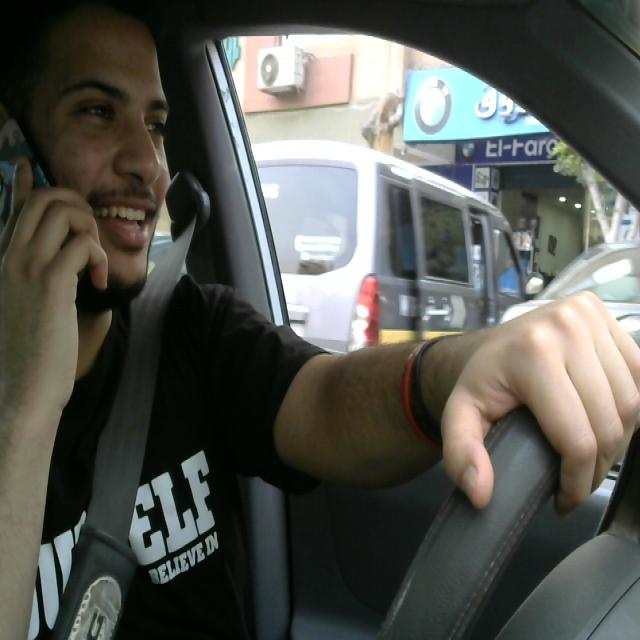mobile use: (0, 99, 80, 329)
